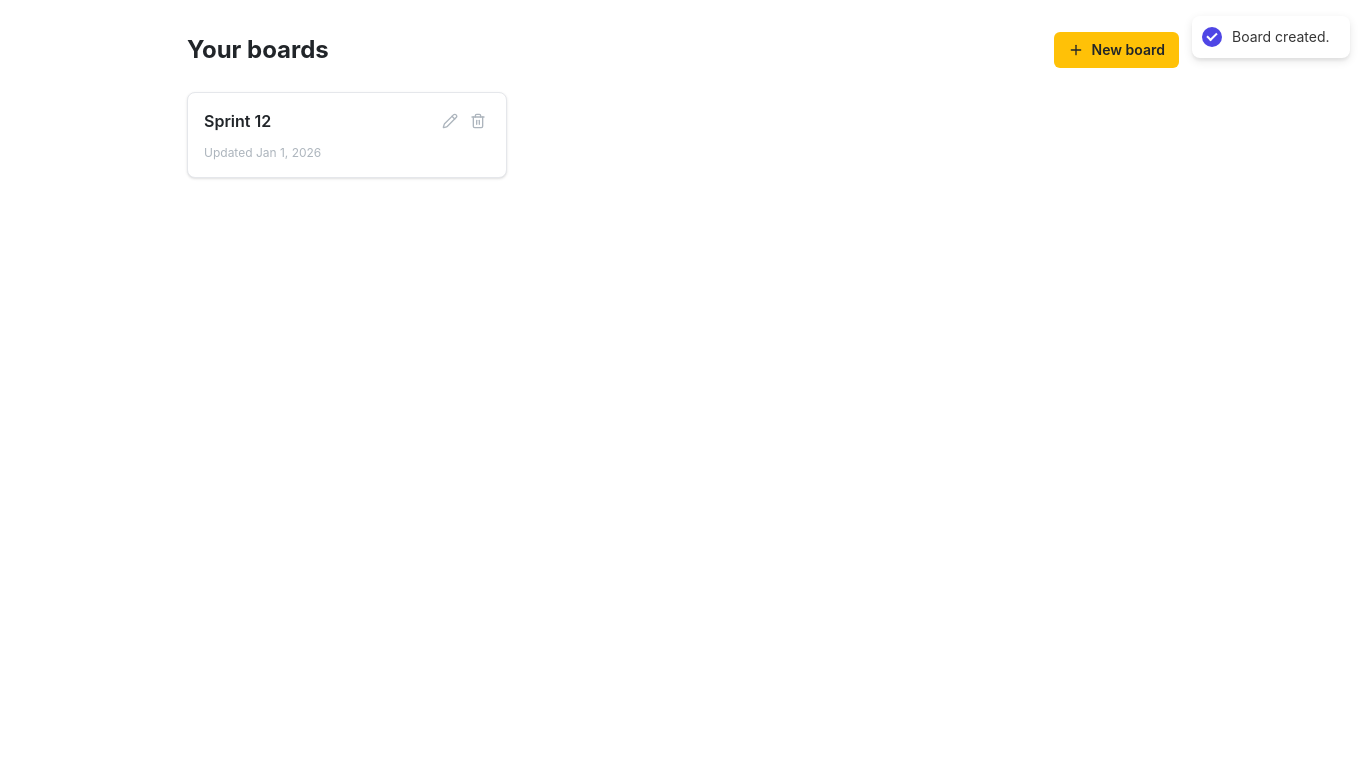
Scenario: BoardsListPage › edits a board's title through the edit modal
Expected: the link "Sprint 12" is shown, [204,109,271,133]
Click the button named "Edit Sprint 12" at [450, 121], box [438,109,462,133]
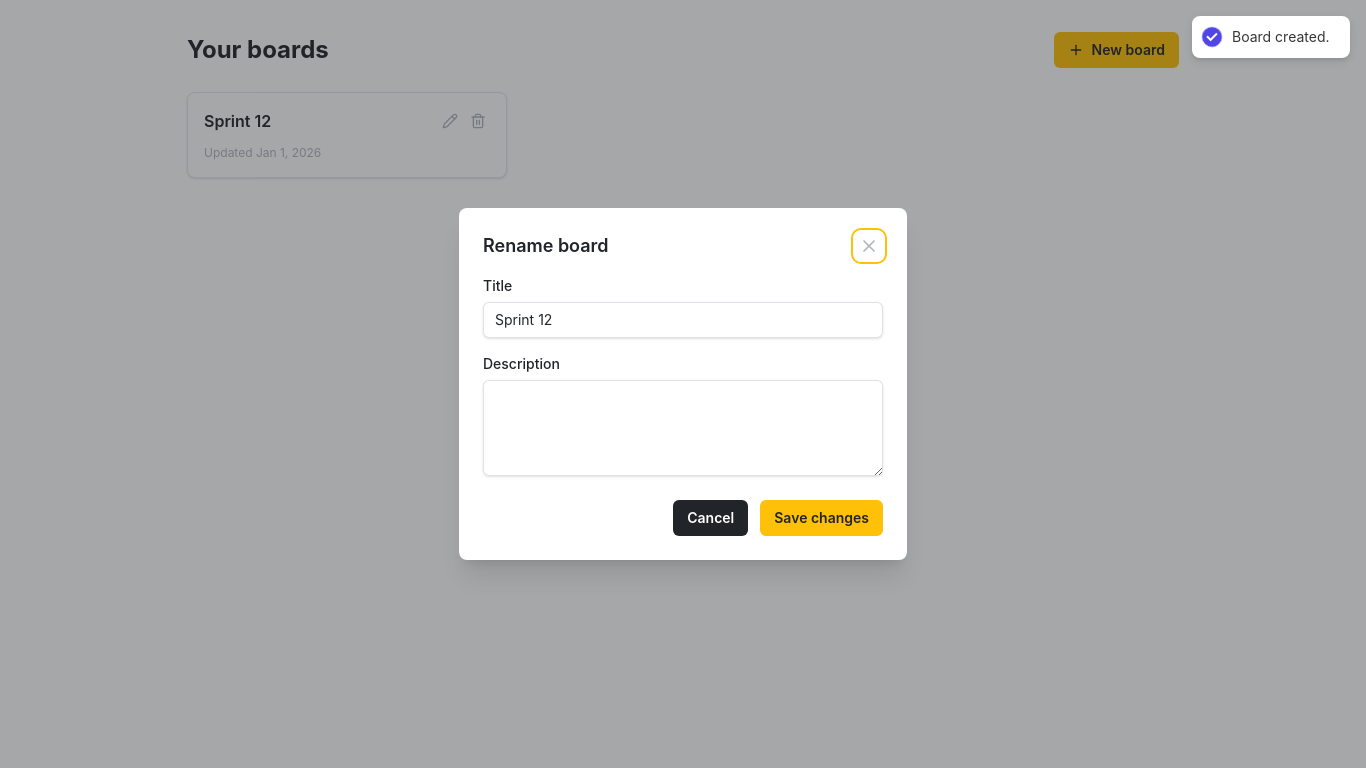
Replace the text in the field labelled "Title" with "Sprint 13" at [683, 320], box [483,302,883,338]
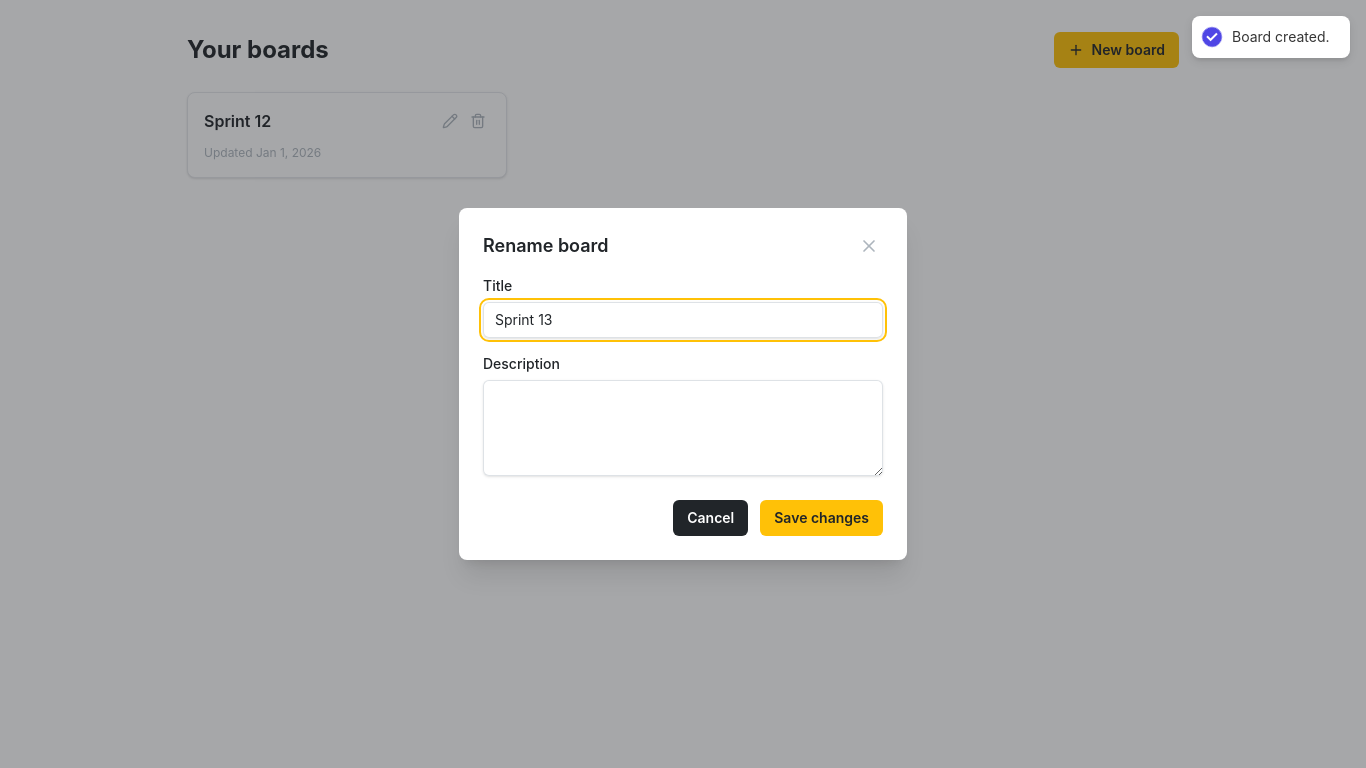
Click the button "Save changes" at [822, 518], box [760,500,883,536]
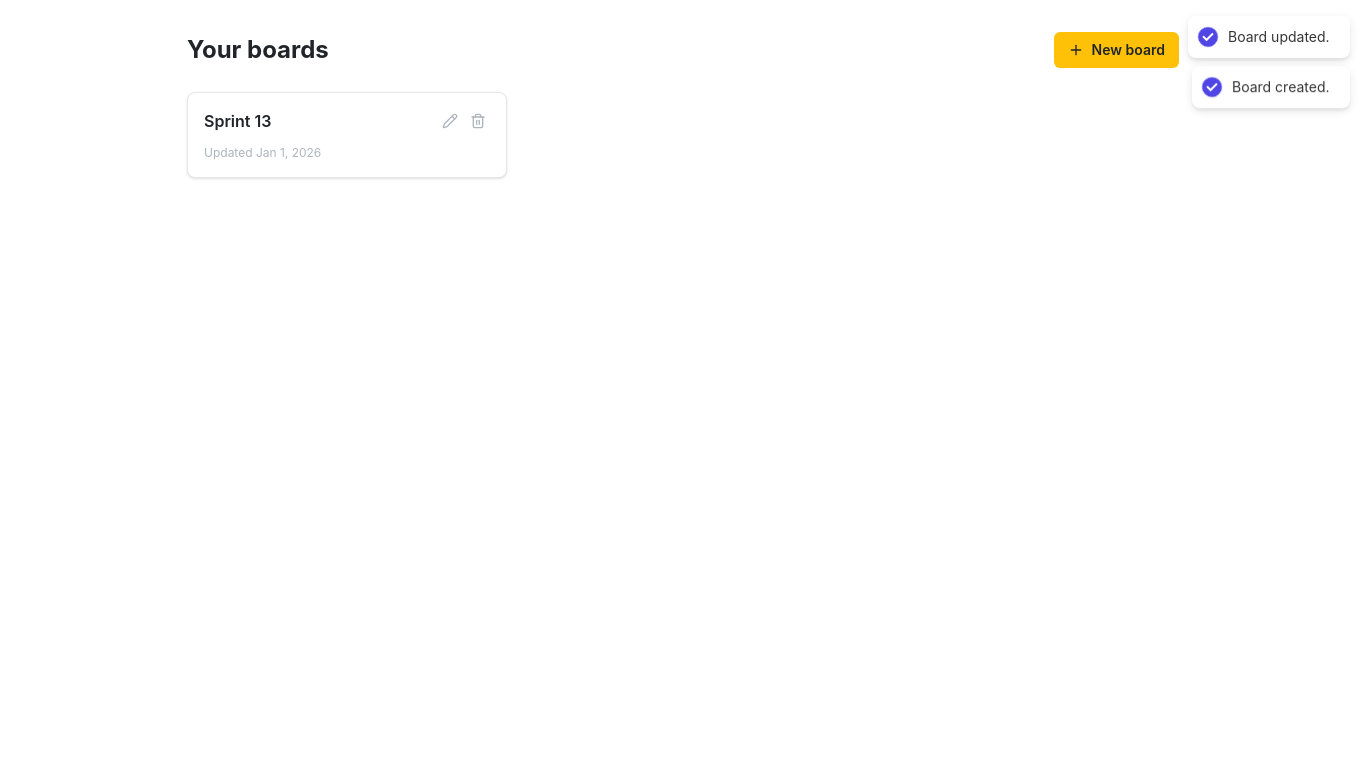
Expected: the link "Sprint 13" is shown, [204,109,272,133]
